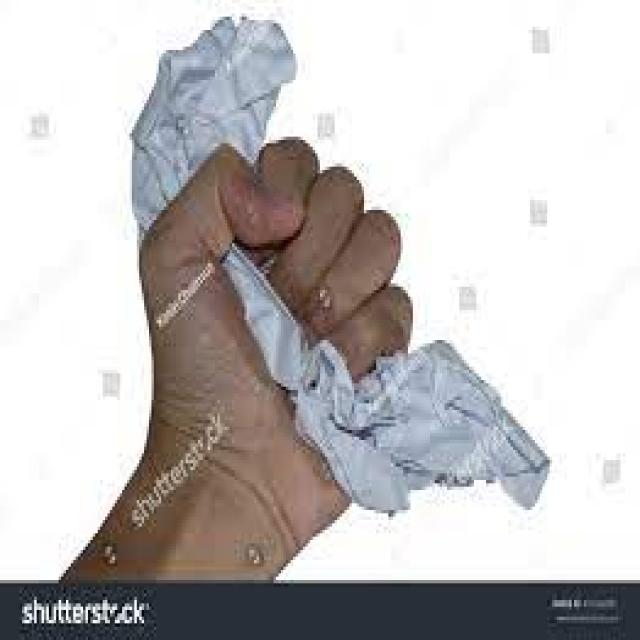PaperCardboard: (225, 246, 549, 509), (128, 11, 294, 232)
